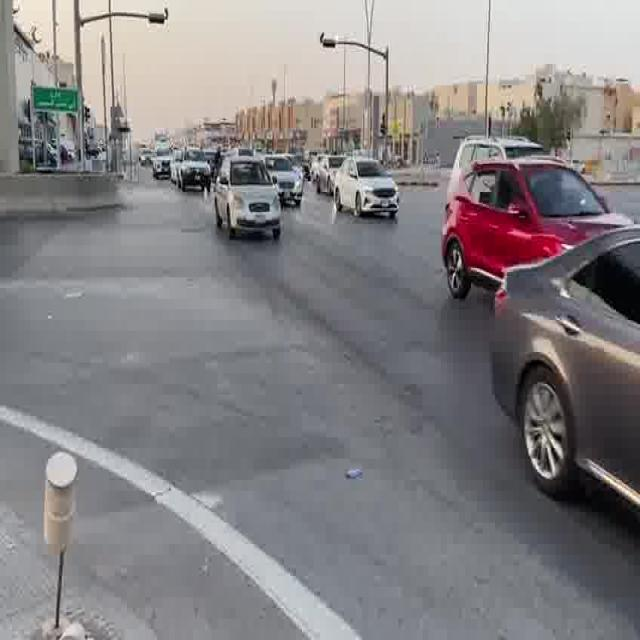bus: (442, 151, 634, 300), (215, 156, 282, 239), (335, 160, 401, 219), (263, 157, 304, 208), (173, 148, 215, 192), (331, 158, 357, 201), (153, 141, 172, 182), (311, 155, 331, 192), (138, 152, 155, 169)
car: (179, 209, 640, 640)
lanes: (226, 209, 639, 634)
lanes2: (260, 205, 640, 474)
lanes3: (286, 201, 640, 404)
lanes4: (327, 192, 640, 313)
